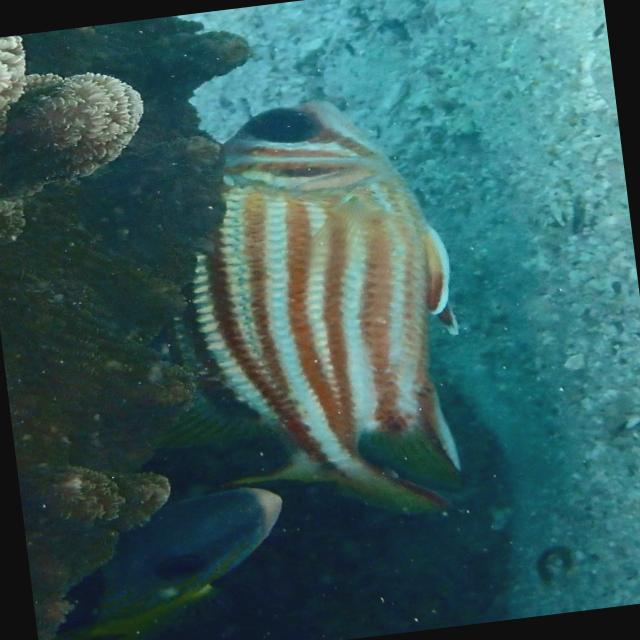Asker Baligi: (130, 76, 500, 558)
